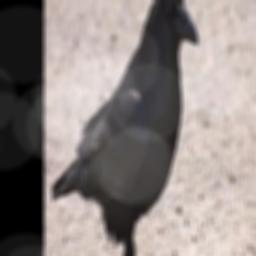Crow: (49, 0, 200, 256)
